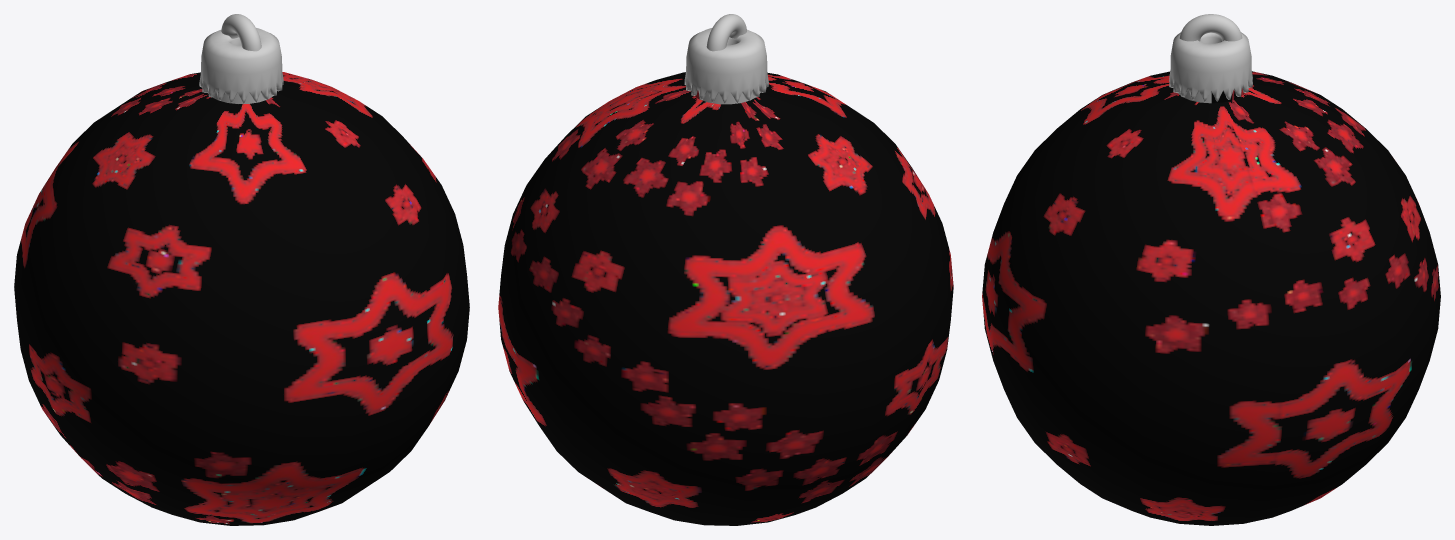
File: Foco.obj
3 views of the same model, side by side, from view 1: azimuth 30°, elevation 25°; view 2: azimuth 150°, elevation 25°; view 3: azimuth 270°, elevation 25° (orthographic).
Visible parts, largest first — view 1: Foco:Mesh; view 2: Foco:Mesh; view 3: Foco:Mesh.
Boxes of the visible parts, x1=… form: Foco:Mesh: x1=14, y1=14, x2=469, y2=525; Foco:Mesh: x1=498, y1=14, x2=953, y2=525; Foco:Mesh: x1=982, y1=14, x2=1440, y2=525.
Size of the model in its own units: 1.35 by 1.59 by 1.35.
